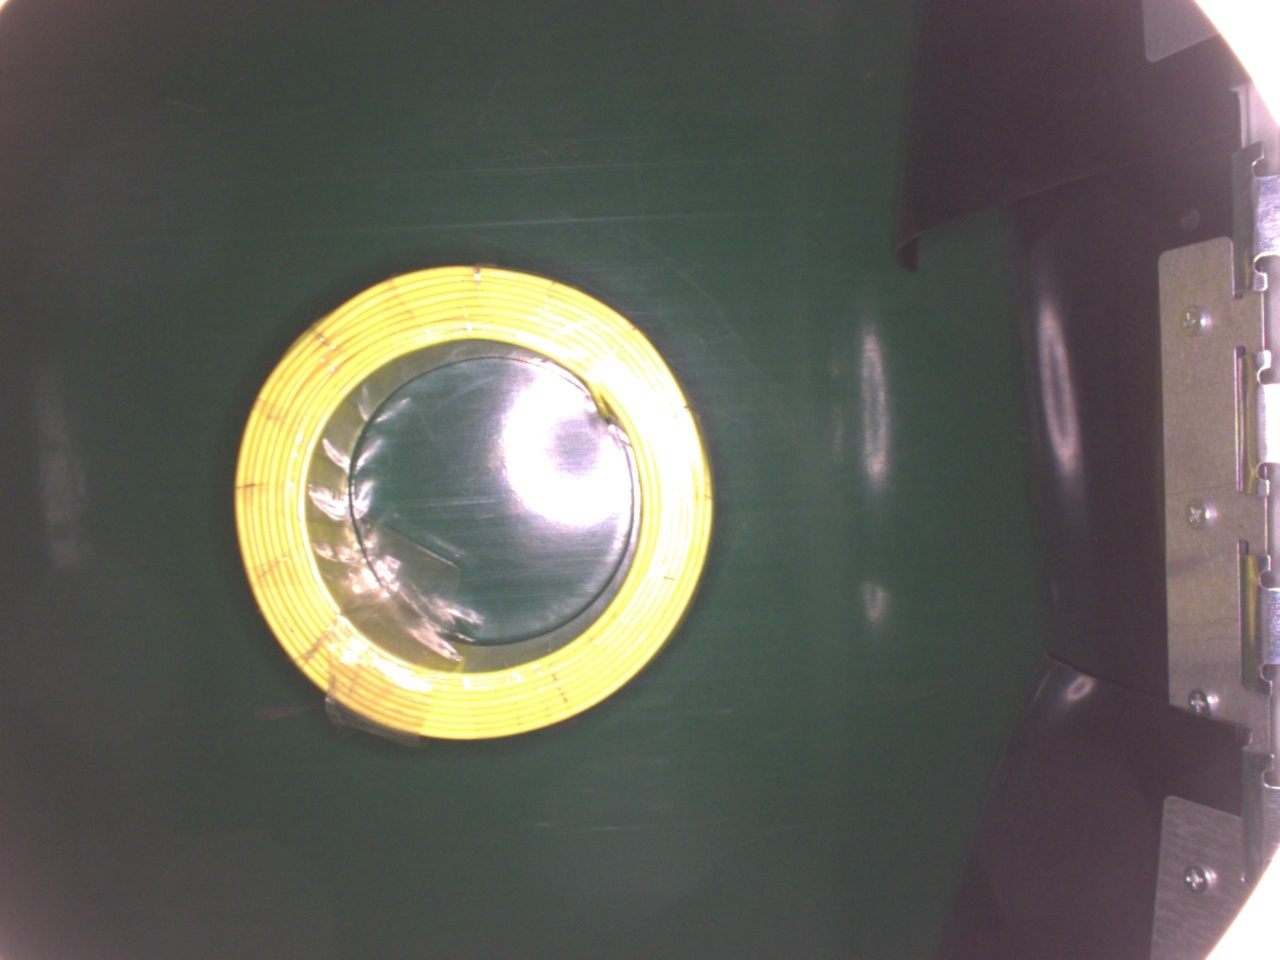yellow: (232, 265, 713, 743)
